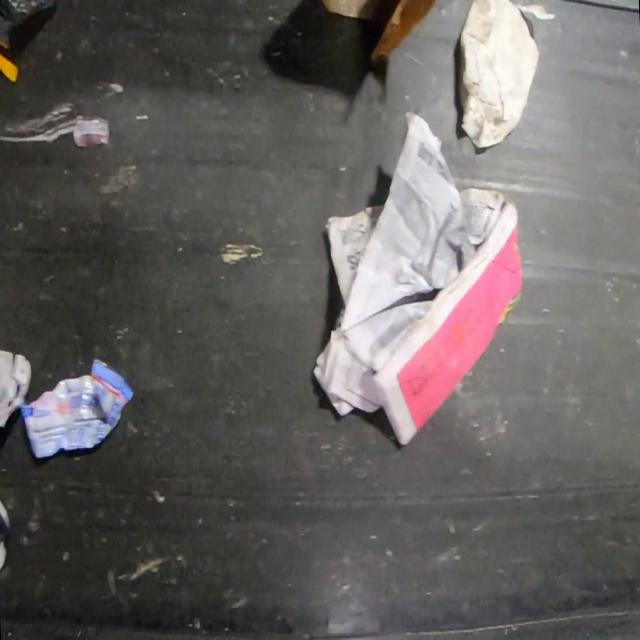cardboard: (321, 0, 434, 62), (0, 347, 32, 429)
soft_plastic: (20, 355, 137, 461)
